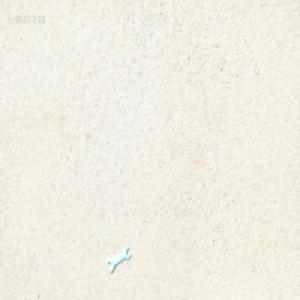Wrench: (107, 246, 130, 274)
